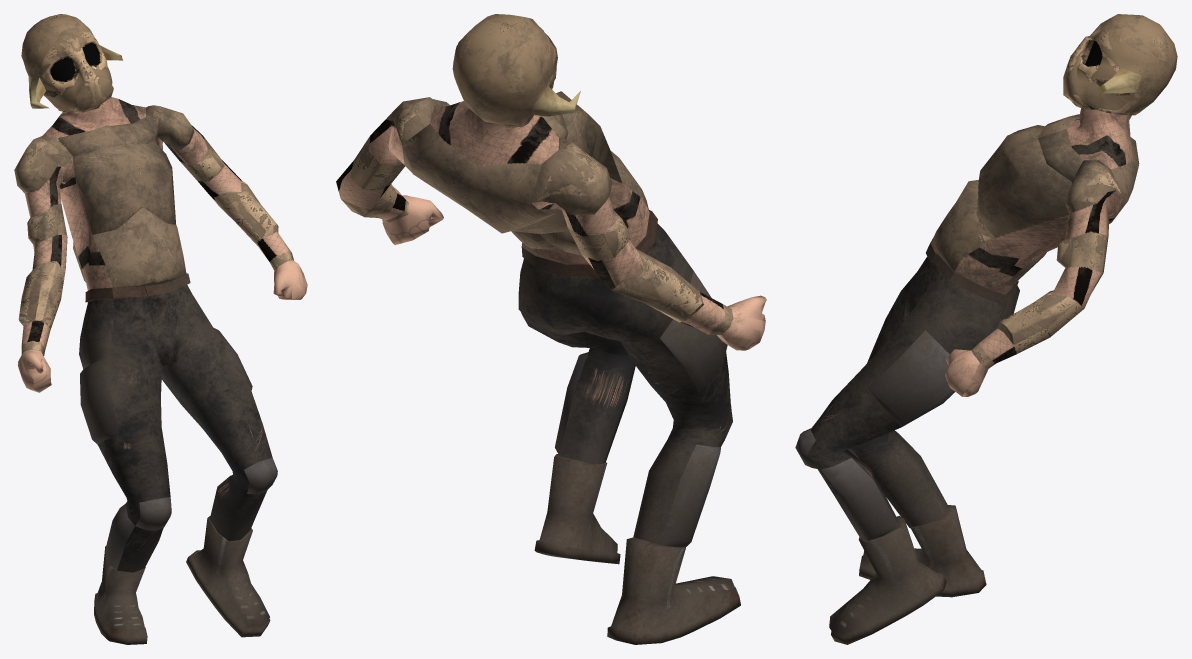
The model's file is Anim_morir_npc1.0025.obj.
3 views of the same model, side by side, from view 1: azimuth 30°, elevation 25°; view 2: azimuth 150°, elevation 25°; view 3: azimuth 270°, elevation 25° (orthographic). The views are drawn at different scales.
Visible parts, largest first — view 1: NPC2; view 2: NPC2; view 3: NPC2.
Part boxes in pixels (<box>): NPC2: <box>14,14,307,644</box>; NPC2: <box>336,14,766,644</box>; NPC2: <box>795,14,1177,644</box>.
Bounding box in the file's own units: 4.59 × 8.15 × 4.8.
